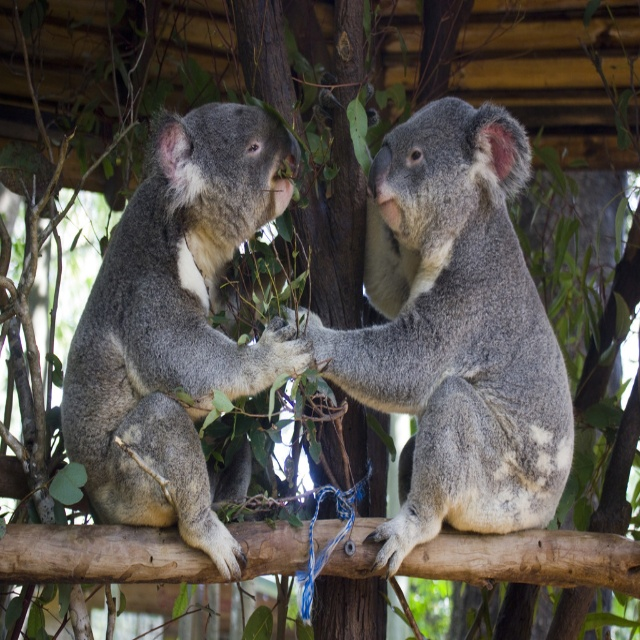Koala: (278, 97, 577, 581), (60, 102, 313, 583)
